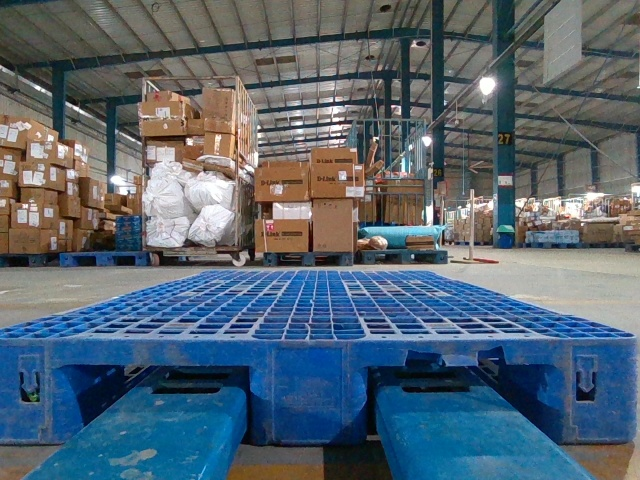block: (246, 338, 382, 446), (0, 336, 85, 444), (559, 338, 637, 444)
front: (1, 336, 638, 442)
hole pallet: (56, 366, 254, 448), (365, 363, 558, 444)
